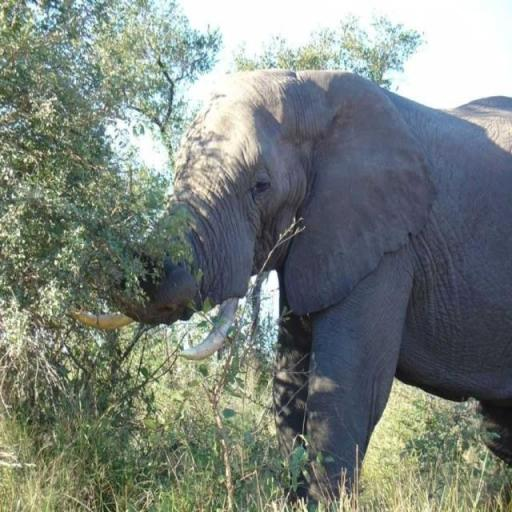Elephant: (69, 67, 512, 511)
